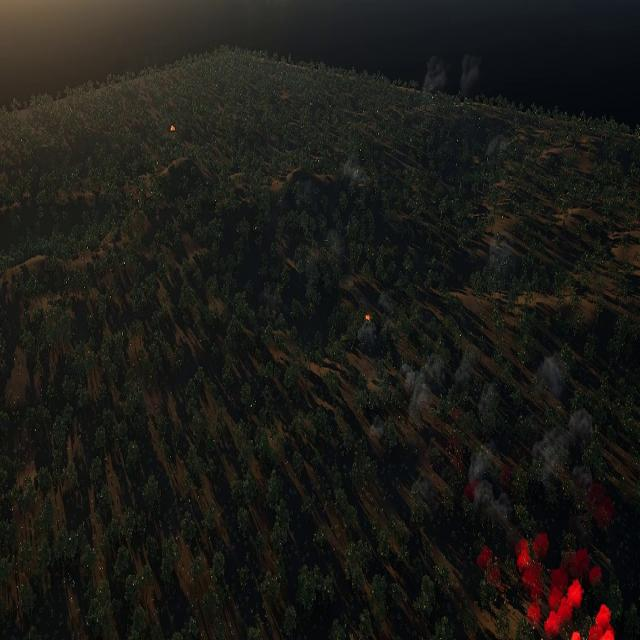fire: (588, 606, 616, 640), (170, 125, 177, 135), (365, 314, 370, 322)
smoke: (516, 531, 616, 637), (536, 410, 614, 532), (467, 452, 513, 526), (479, 120, 519, 176), (485, 226, 517, 292), (403, 360, 432, 416), (538, 354, 564, 396), (478, 546, 502, 584), (425, 55, 449, 92), (369, 414, 394, 449), (460, 54, 480, 93), (343, 156, 368, 186), (456, 353, 474, 384)
